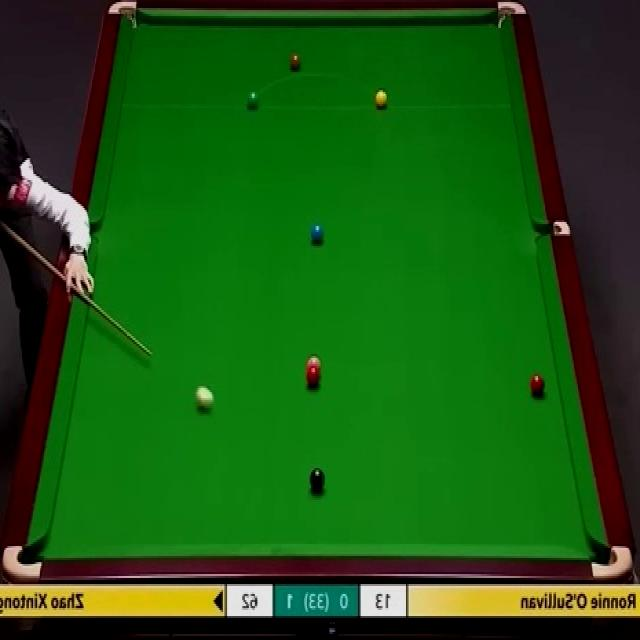black-ball: (310, 468, 326, 494)
blue-ball: (310, 222, 324, 243)
brown-ball: (289, 53, 302, 70)
green-ball: (247, 89, 260, 110)
pink-ball: (305, 354, 322, 372)
red-ball: (530, 374, 544, 395), (306, 370, 322, 387)
white-ball: (196, 387, 213, 413)
yellow-ball: (375, 90, 387, 110)
